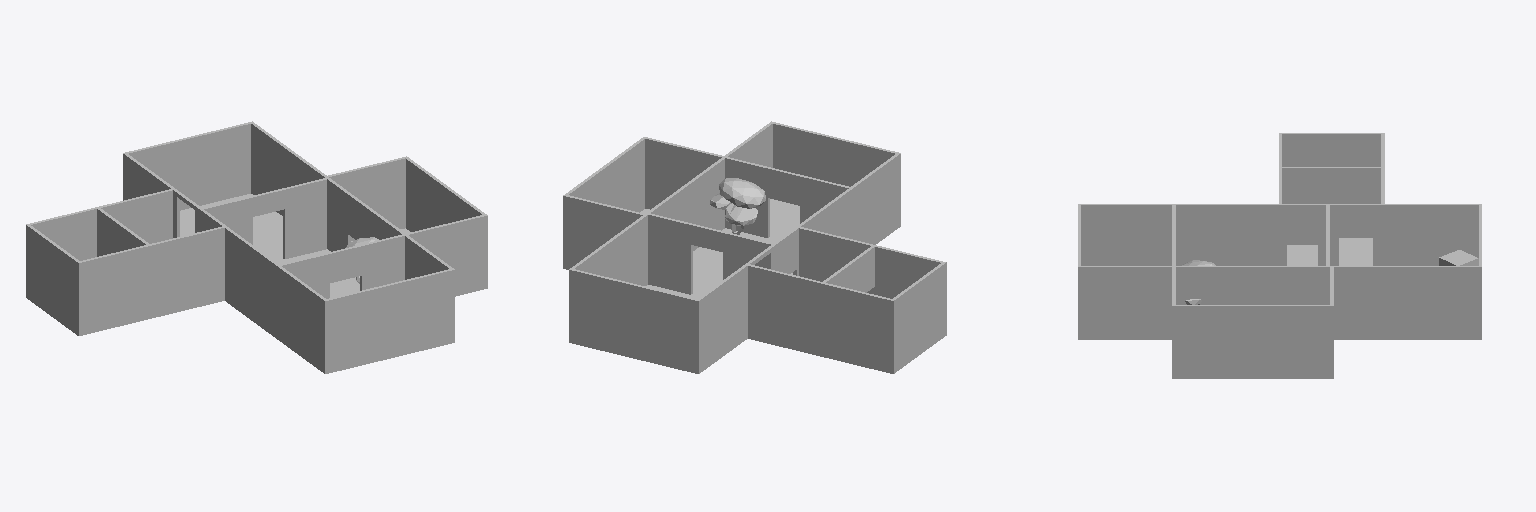
The model's file is level4.obj.
3 views of the same model, side by side, from view 1: azimuth 30°, elevation 25°; view 2: azimuth 150°, elevation 25°; view 3: azimuth 270°, elevation 25° (orthographic).
Parts seen in each view (by area): view 1: Cube.013, Cube.004, Cube.011, Cube.003, Cube.012, Cube.014, Cube.006, Cube.020, Cube.009, Cube.005, Cube.008, Cube.018 (+14 smaller); view 2: Cube.012, Cube.003, Cube.004, Cube.011, Cube.013, Cube.014, Cube.010, Cube.005, Cube.020, Cube.009, Cube.006, Cube.008 (+15 smaller); view 3: Cube.011, Cube.009, Cube.008, Cube.007, Cube.010, Cube.014, Cube.022, Cube.016, Cube.015, Cube.001, Cube.025, Cube.029 (+2 smaller).
Part boxes in pixels (x1,y1,x2,y2): Cube.013: (77, 226, 224, 332); Cube.004: (323, 268, 454, 370); Cube.011: (221, 224, 325, 368); Cube.003: (123, 121, 253, 210); Cube.012: (26, 189, 172, 295); Cube.014: (28, 225, 78, 330); Cube.006: (407, 214, 487, 292); Cube.020: (283, 178, 326, 258); Cube.009: (406, 158, 484, 231); Cube.005: (328, 156, 408, 240); Cube.008: (251, 123, 327, 215); Cube.018: (360, 234, 404, 290); Cube.012: (748, 264, 894, 370); Cube.003: (569, 268, 700, 370); Cube.004: (770, 121, 900, 223); Cube.011: (793, 154, 898, 275); Cube.013: (799, 227, 946, 332); Cube.014: (893, 263, 944, 369); Cube.010: (698, 261, 752, 368); Cube.005: (563, 194, 643, 267); Cube.020: (648, 213, 692, 294); Cube.009: (566, 138, 644, 212); Cube.006: (643, 137, 722, 209); Cube.008: (572, 214, 647, 285); Cube.011: (1081, 204, 1286, 265); Cube.009: (1176, 305, 1329, 375); Cube.008: (1330, 266, 1478, 336); Cube.007: (1081, 266, 1175, 336); Cube.010: (1373, 204, 1478, 265); Cube.014: (1282, 133, 1380, 166); Cube.022: (1323, 167, 1380, 237); Cube.016: (1176, 266, 1250, 304); Cube.015: (1286, 266, 1329, 304); Cube.001: (1287, 238, 1372, 265); Cube.025: (1282, 167, 1322, 203); Cube.029: (1251, 266, 1285, 304).
Size of the model in its own units: 37.6 by 7.39 by 37.05.